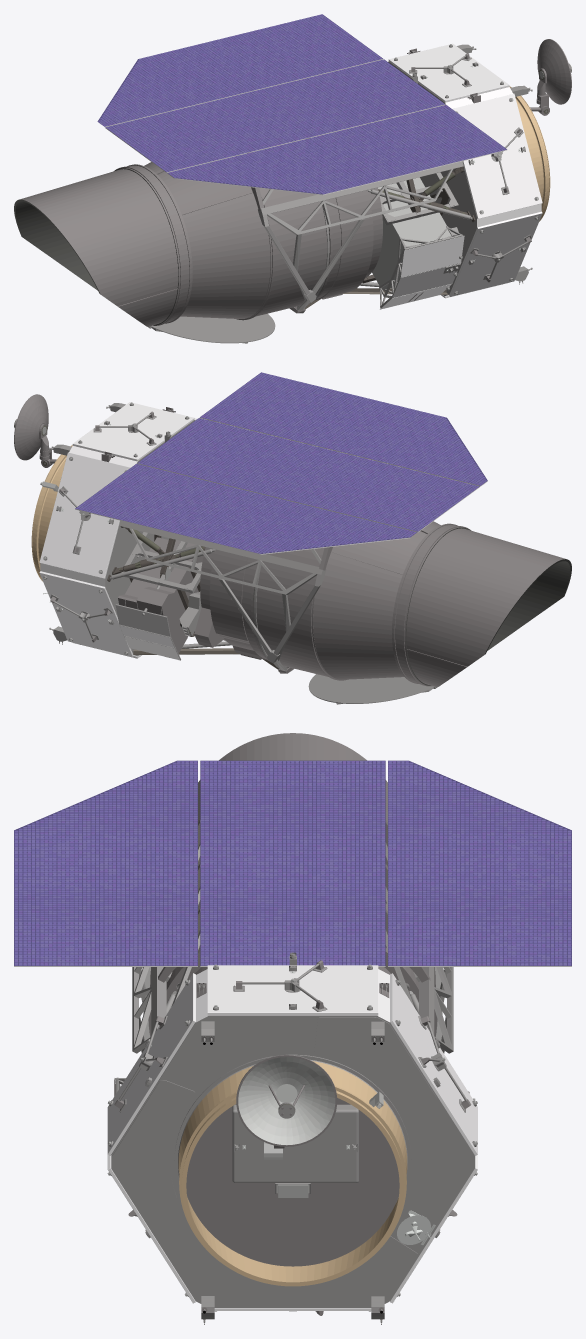
File: roman.glb
The picture shows the model from 3 angles, top to bottom: view 1: azimuth 30°, elevation 25°; view 2: azimuth 150°, elevation 25°; view 3: azimuth 270°, elevation 25°; orthographic projection. The views are drawn at different scales.
Visible parts, largest first — view 1: afta2015-maintube; view 2: afta2015-maintube; view 3: afta2015-maintube.
Boxes of the visible parts, box(x1,y1,x2,y2) form: afta2015-maintube: box(14, 14, 571, 343); afta2015-maintube: box(14, 372, 571, 704); afta2015-maintube: box(14, 733, 571, 1324).
Size of the model in its own units: 344 by 131 by 207.
Materials: 3 (3 with a texture image).
